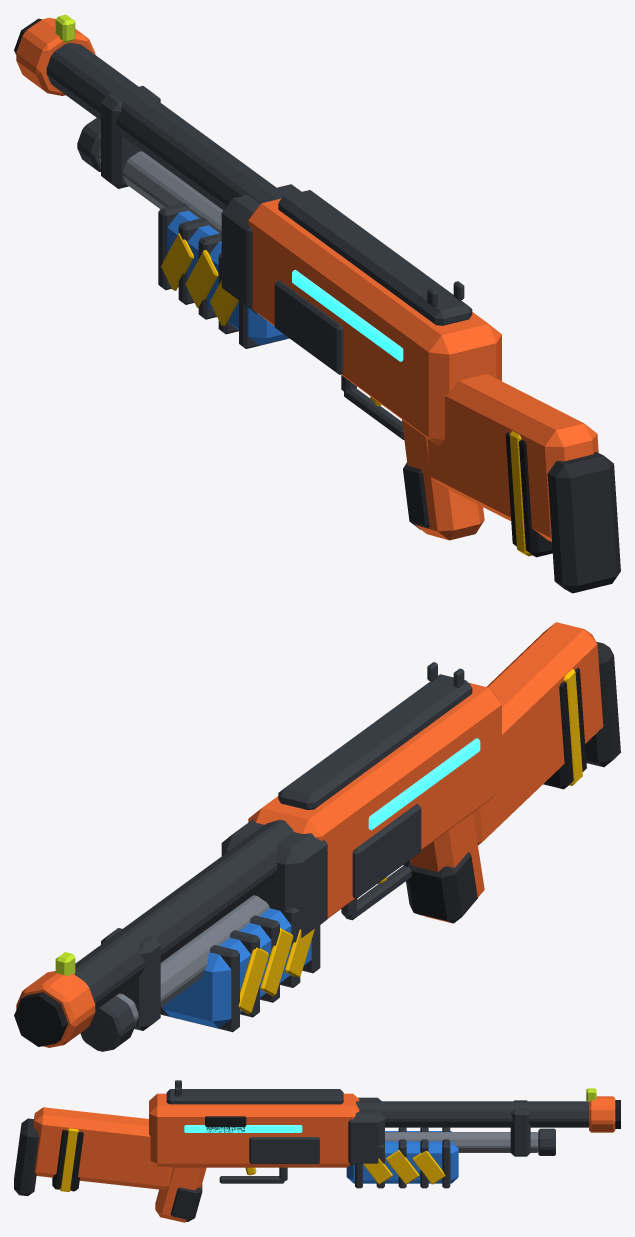
File: dart_gun.glb
3 views of the same model, one above another, from view 1: azimuth 30°, elevation 25°; view 2: azimuth 150°, elevation 25°; view 3: azimuth 270°, elevation 25° (orthographic). The views are drawn at different scales.
Parts seen in each view (by area): view 1: dart_gun, pump; view 2: dart_gun, pump; view 3: dart_gun, pump.
Part boxes in pixels (x1,y1,x2,y2): dart_gun: (14, 14, 620, 593); pump: (158, 203, 289, 348); dart_gun: (14, 622, 620, 1051); pump: (160, 908, 320, 1032); dart_gun: (14, 1080, 620, 1222); pump: (346, 1127, 458, 1188).
Size of the model in its own units: 0.09 by 0.2528 by 1.03.
